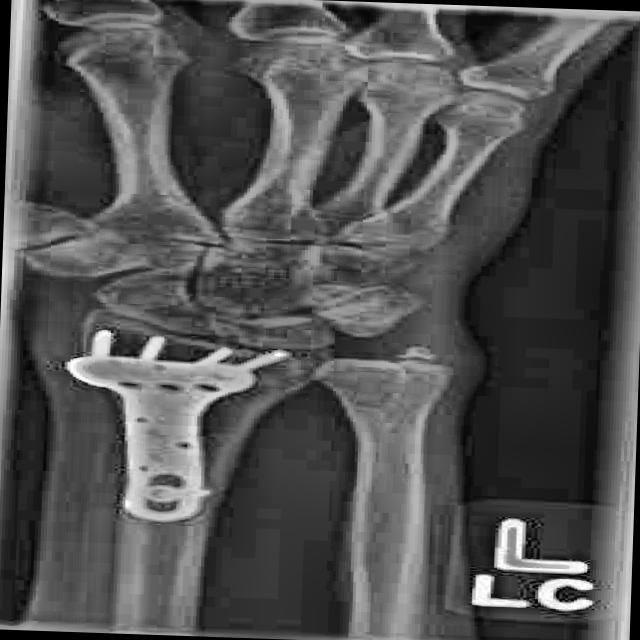fingers positive: (314, 378, 453, 423)
